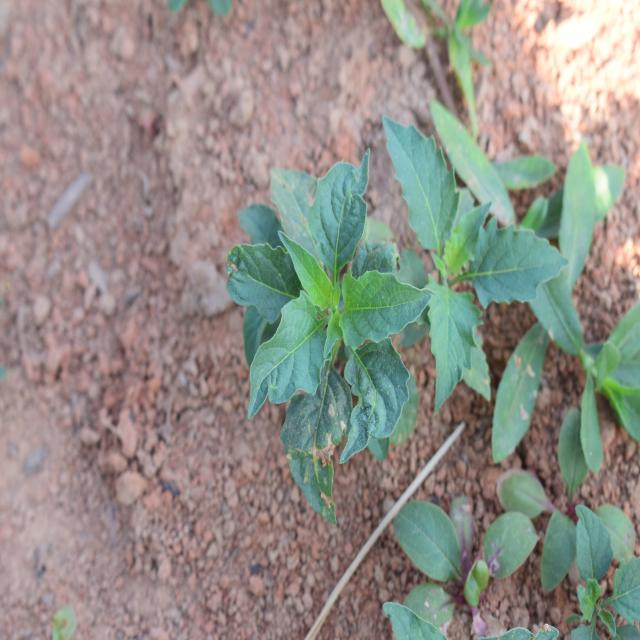Black_nightshade: (238, 164, 423, 480), (398, 108, 532, 392)
